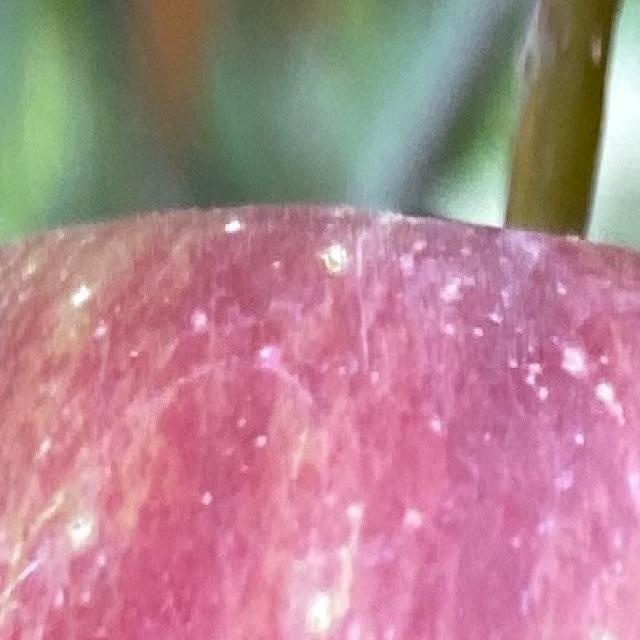Apples: (0, 215, 639, 638)
